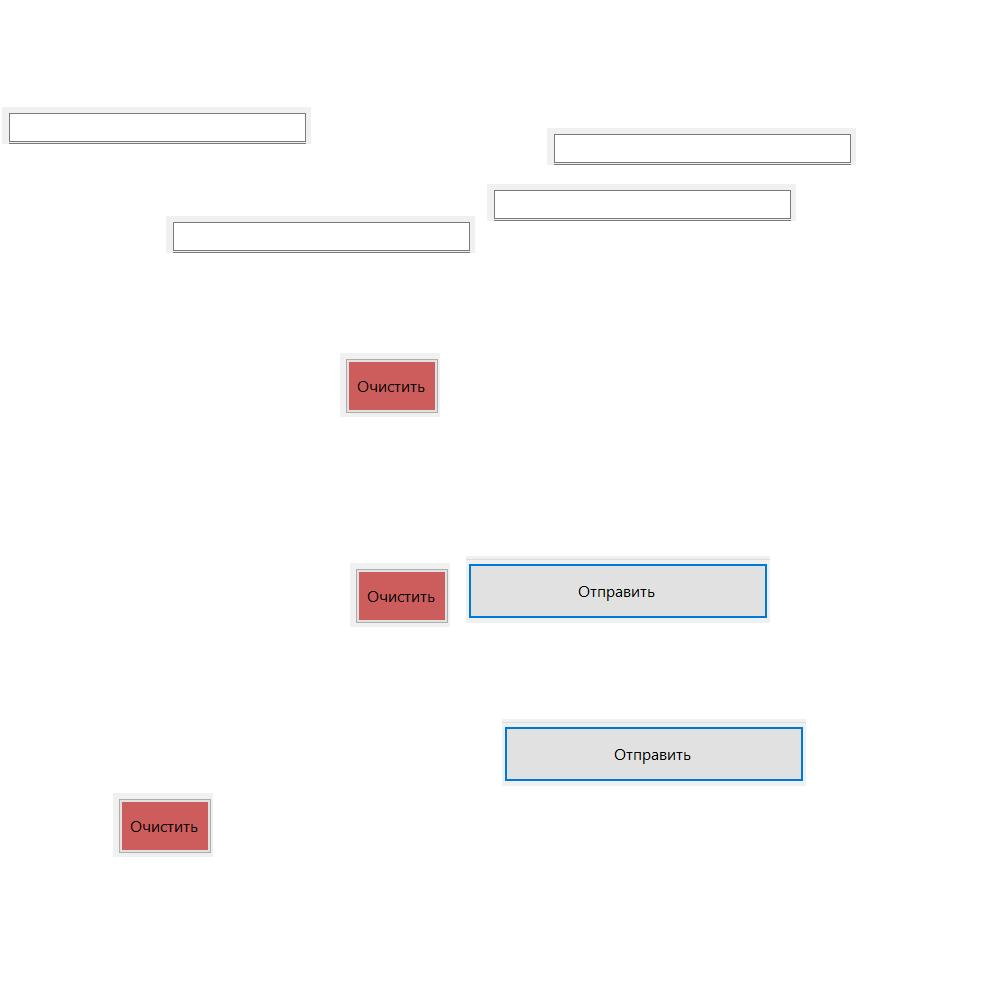Button: (466, 556, 770, 623), (502, 719, 806, 786), (340, 353, 440, 417), (113, 793, 213, 857), (350, 563, 450, 627)
EditText-: (2, 107, 311, 144), (547, 128, 856, 165), (487, 184, 796, 221), (166, 216, 475, 253)
